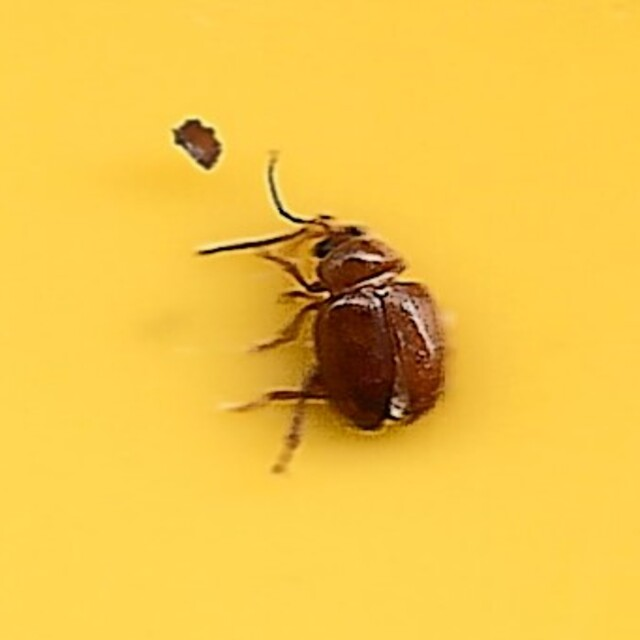Coleoptera: (188, 156, 452, 484)
